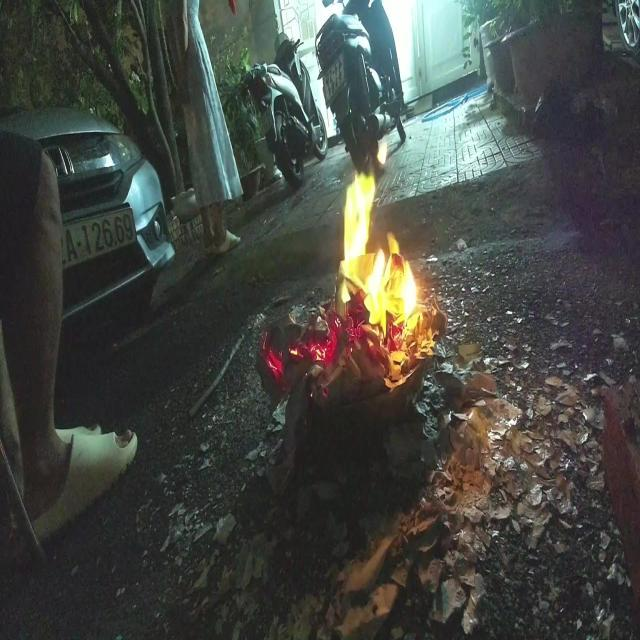Fire: (341, 137, 419, 341)
